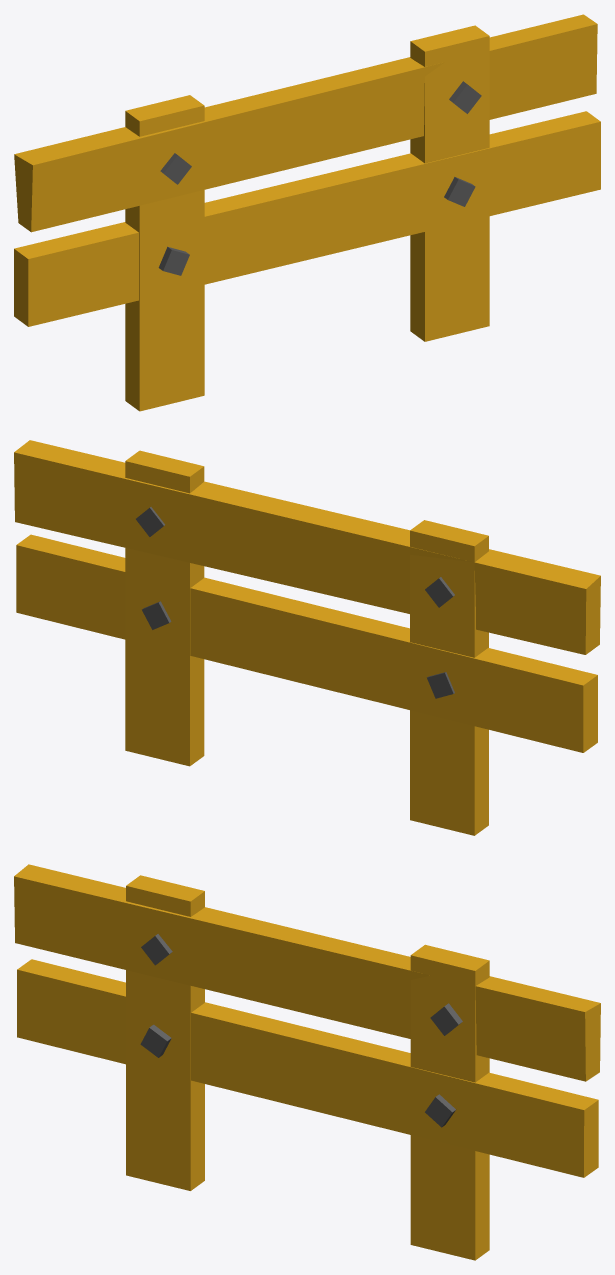
The model's file is wooden_fence.glb.
3 renders of one model, top to bottom at view 1: azimuth 30°, elevation 25°; view 2: azimuth 150°, elevation 25°; view 3: azimuth 330°, elevation 25°, orthographic.
Parts seen in each view (by area): view 1: WoodFence; view 2: WoodFence; view 3: WoodFence.
Boxes of the visible parts, box(x1,y1,x2,y2) form: WoodFence: box(14, 14, 600, 411); WoodFence: box(14, 440, 600, 835); WoodFence: box(14, 864, 600, 1260).
Bounding box in the file's own units: 2 × 0.9722 × 0.1269.
